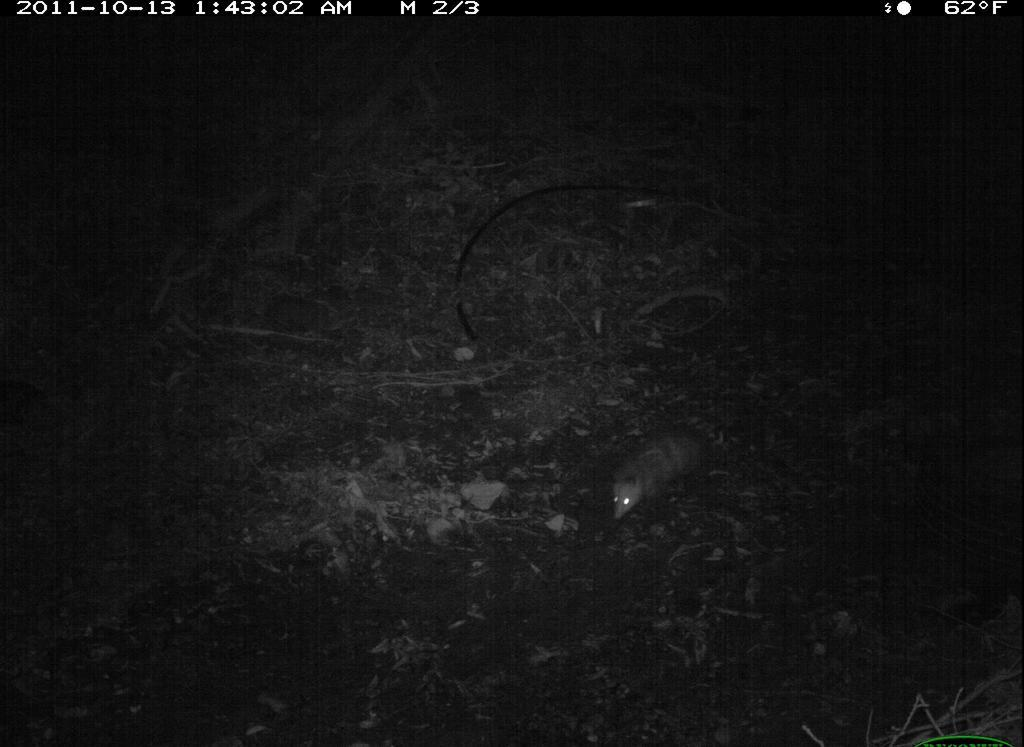opossum: (596, 409, 748, 537)
